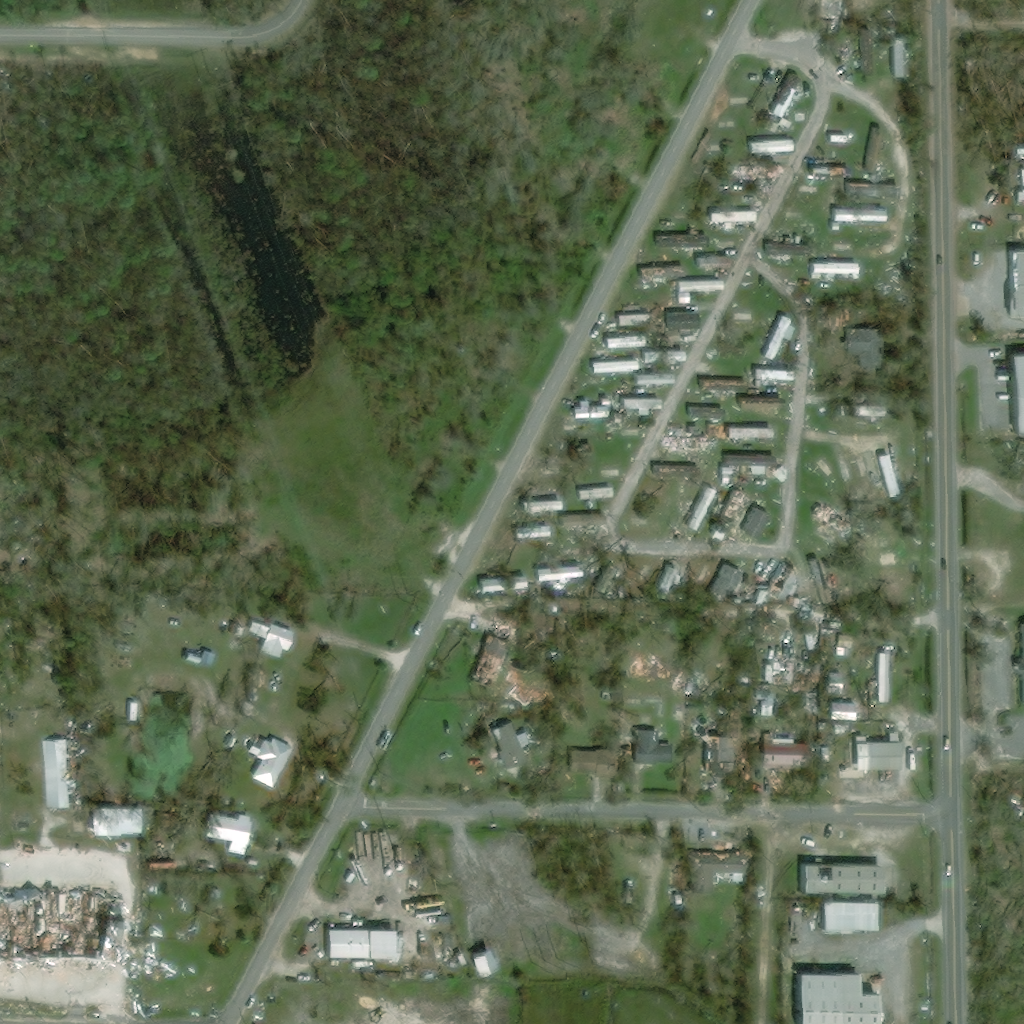destroyed: (0, 888, 116, 961), (765, 562, 798, 603), (668, 427, 711, 448), (812, 505, 843, 532), (776, 662, 805, 687), (435, 848, 452, 886), (562, 427, 601, 443), (751, 165, 784, 183), (722, 346, 761, 361), (730, 314, 769, 329), (752, 370, 792, 380), (443, 886, 461, 903), (672, 678, 683, 695)
major_damage: (686, 845, 756, 892), (470, 618, 513, 691), (801, 860, 879, 889), (699, 724, 736, 771), (712, 489, 746, 540), (761, 730, 804, 764), (708, 209, 758, 232), (723, 456, 773, 475), (768, 237, 813, 258), (870, 653, 890, 700), (697, 258, 732, 276), (563, 516, 609, 528), (831, 310, 852, 328), (708, 426, 718, 437)
minor_damage: (247, 731, 296, 790), (200, 811, 255, 856), (853, 732, 902, 771), (492, 722, 529, 770), (633, 722, 672, 767), (770, 73, 804, 118), (851, 331, 887, 373), (575, 752, 620, 779), (831, 208, 886, 226), (866, 128, 887, 175), (53, 739, 67, 809), (878, 454, 899, 499), (748, 138, 793, 159), (475, 576, 530, 593), (656, 233, 711, 249), (812, 262, 857, 281), (570, 400, 610, 421), (468, 943, 495, 974), (632, 374, 675, 392), (644, 262, 688, 279), (539, 566, 584, 581), (863, 183, 901, 198), (861, 32, 873, 78), (620, 399, 648, 418), (183, 651, 214, 668), (726, 427, 772, 438), (891, 37, 903, 79), (673, 315, 701, 333), (697, 378, 747, 388), (740, 400, 791, 409), (526, 502, 565, 513), (580, 487, 613, 499), (664, 467, 701, 477), (815, 168, 854, 177), (687, 409, 725, 418), (831, 143, 867, 151), (769, 468, 783, 482), (779, 118, 794, 130), (769, 123, 780, 134), (856, 165, 863, 171)
no_damage: (792, 959, 878, 1023), (323, 928, 394, 962), (247, 620, 297, 659), (819, 901, 881, 930), (681, 487, 717, 532), (1007, 354, 1023, 435), (1004, 250, 1023, 318), (762, 317, 789, 361), (742, 507, 772, 541), (373, 1002, 421, 1023), (674, 280, 727, 297), (843, 401, 889, 418), (642, 350, 687, 366), (591, 359, 641, 372), (618, 311, 653, 329), (607, 334, 648, 349), (258, 673, 282, 690), (677, 294, 690, 304), (831, 223, 842, 231), (693, 458, 702, 464), (740, 441, 748, 446), (1020, 668, 1023, 677)
unclassified: (997, 162, 1017, 187), (1017, 169, 1023, 188)
